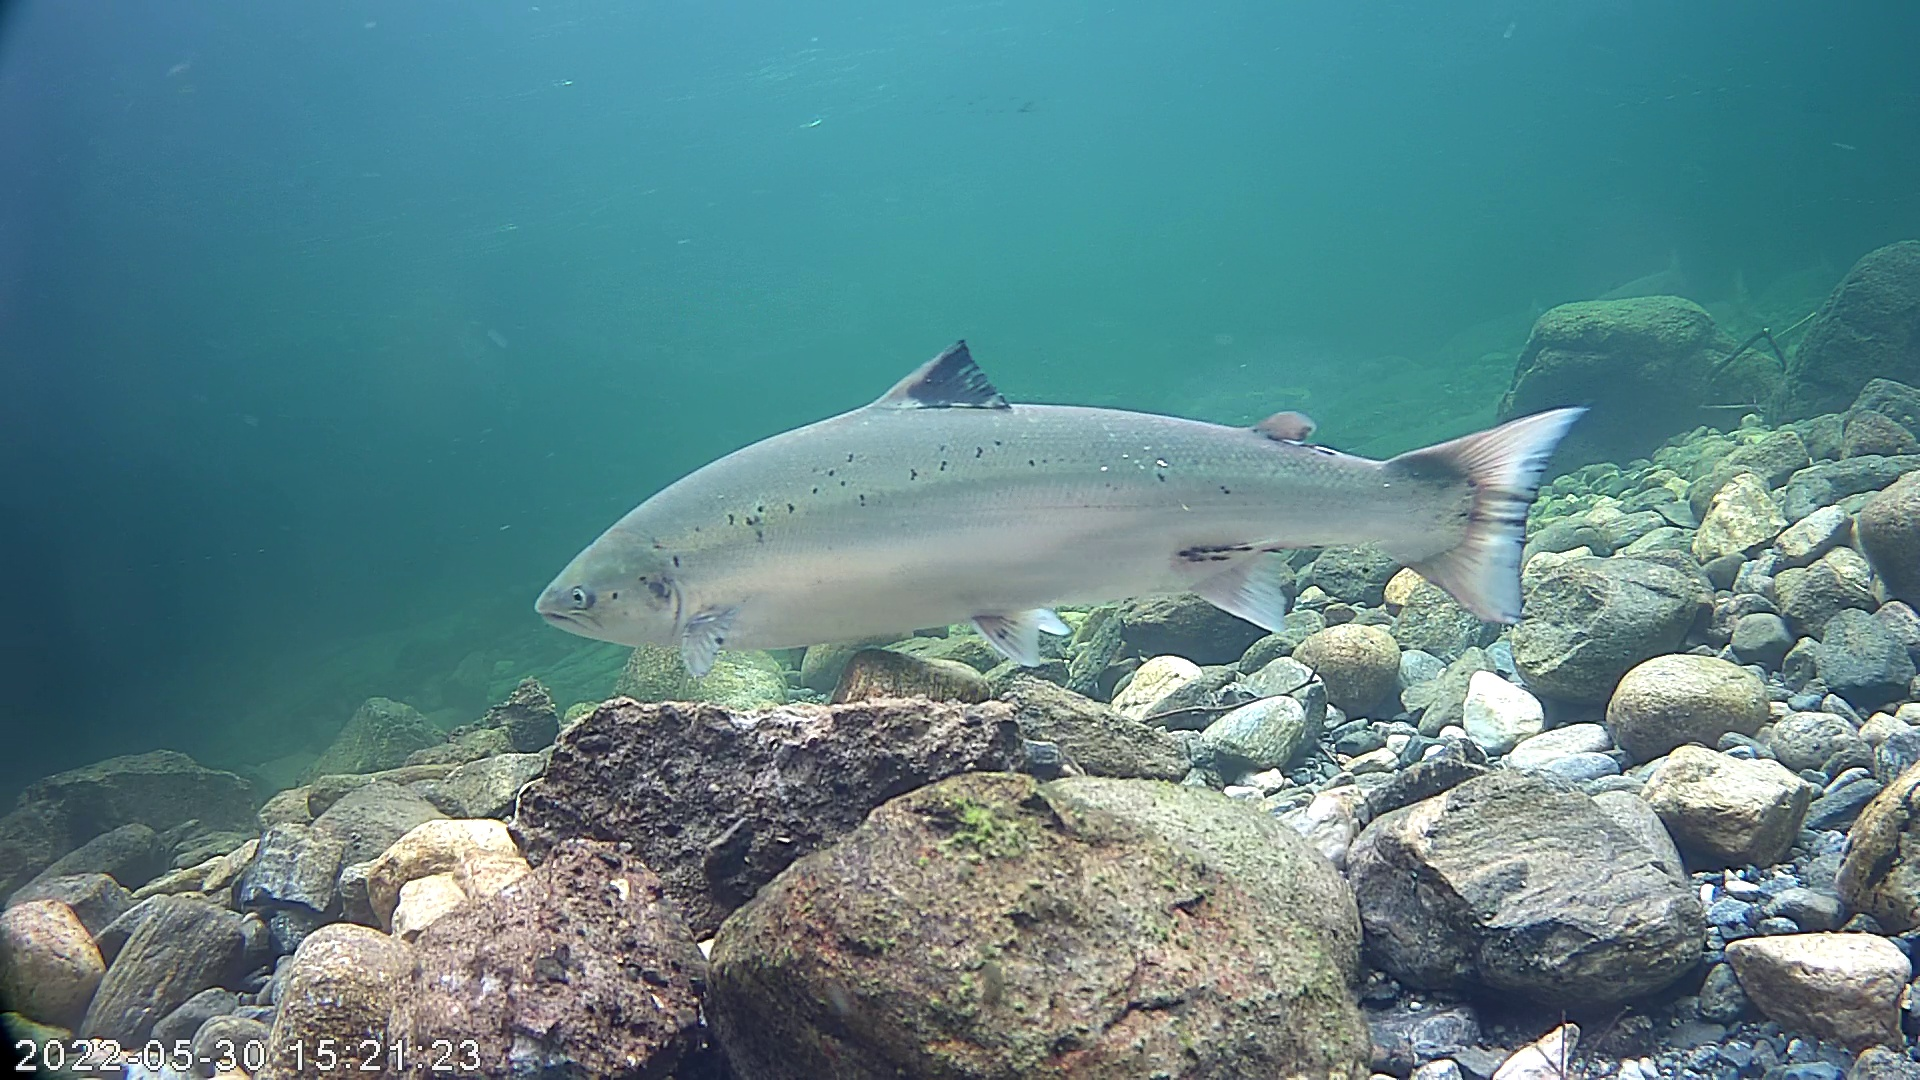salmon: (527, 335, 1593, 686)
